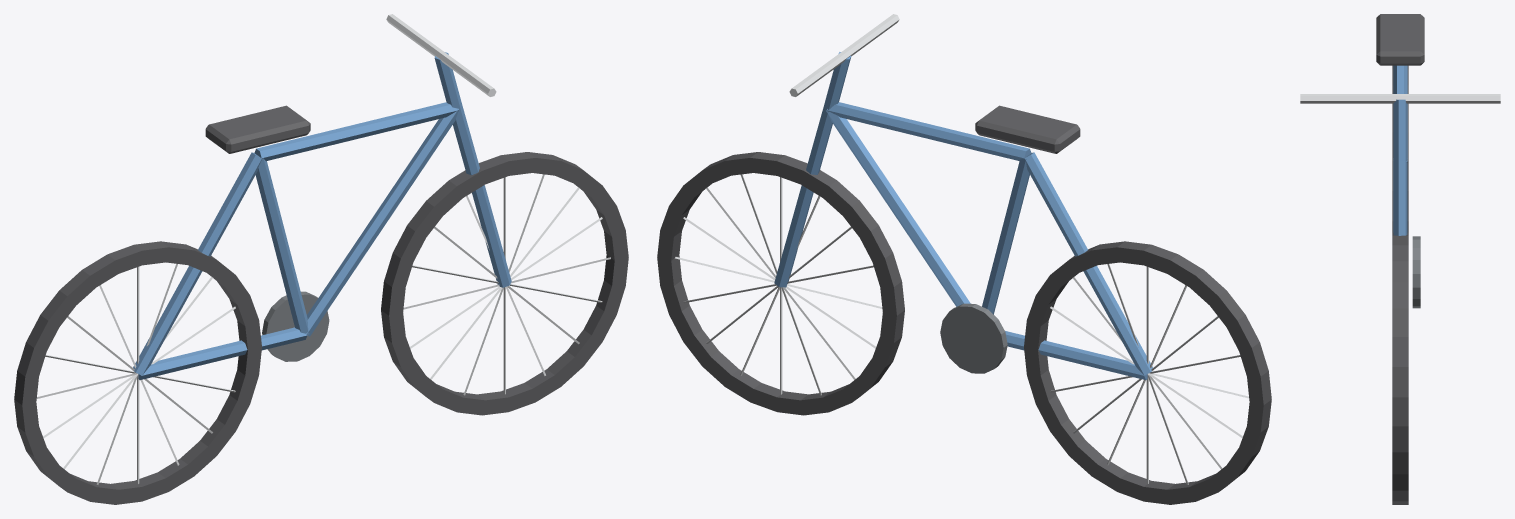
File: bicycle_b.glb
3 renders of one model, left to right at view 1: azimuth 30°, elevation 25°; view 2: azimuth 150°, elevation 25°; view 3: azimuth 270°, elevation 25°, orthographic.
Parts seen in each view (by area): view 1: bicycle_b_rubber, bicycle_b_paint_b, bicycle_b_chrome, bicycle_b_dark, bicycle_b_steel_d; view 2: bicycle_b_rubber, bicycle_b_paint_b, bicycle_b_chrome, bicycle_b_steel_d, bicycle_b_dark; view 3: bicycle_b_rubber, bicycle_b_dark, bicycle_b_paint_b, bicycle_b_chrome, bicycle_b_steel_d.
Boxes of the visible parts, <box> form: bicycle_b_rubber: <box>14,152,628,504</box>; bicycle_b_paint_b: <box>132,52,511,379</box>; bicycle_b_chrome: <box>36,14,610,484</box>; bicycle_b_dark: <box>205,105,310,153</box>; bicycle_b_steel_d: <box>262,291,329,361</box>; bicycle_b_rubber: <box>657,152,1271,504</box>; bicycle_b_paint_b: <box>774,52,1152,379</box>; bicycle_b_chrome: <box>675,14,1249,484</box>; bicycle_b_steel_d: <box>940,303,1007,373</box>; bicycle_b_dark: <box>975,105,1080,153</box>; bicycle_b_rubber: <box>1392,65,1408,504</box>; bicycle_b_dark: <box>1376,14,1424,65</box>; bicycle_b_paint_b: <box>1393,65,1407,235</box>; bicycle_b_chrome: <box>1300,94,1500,103</box>; bicycle_b_steel_d: <box>1412,236,1420,308</box>.
Bounding box in the file's own units: 1.72 × 1.01 × 0.5.
